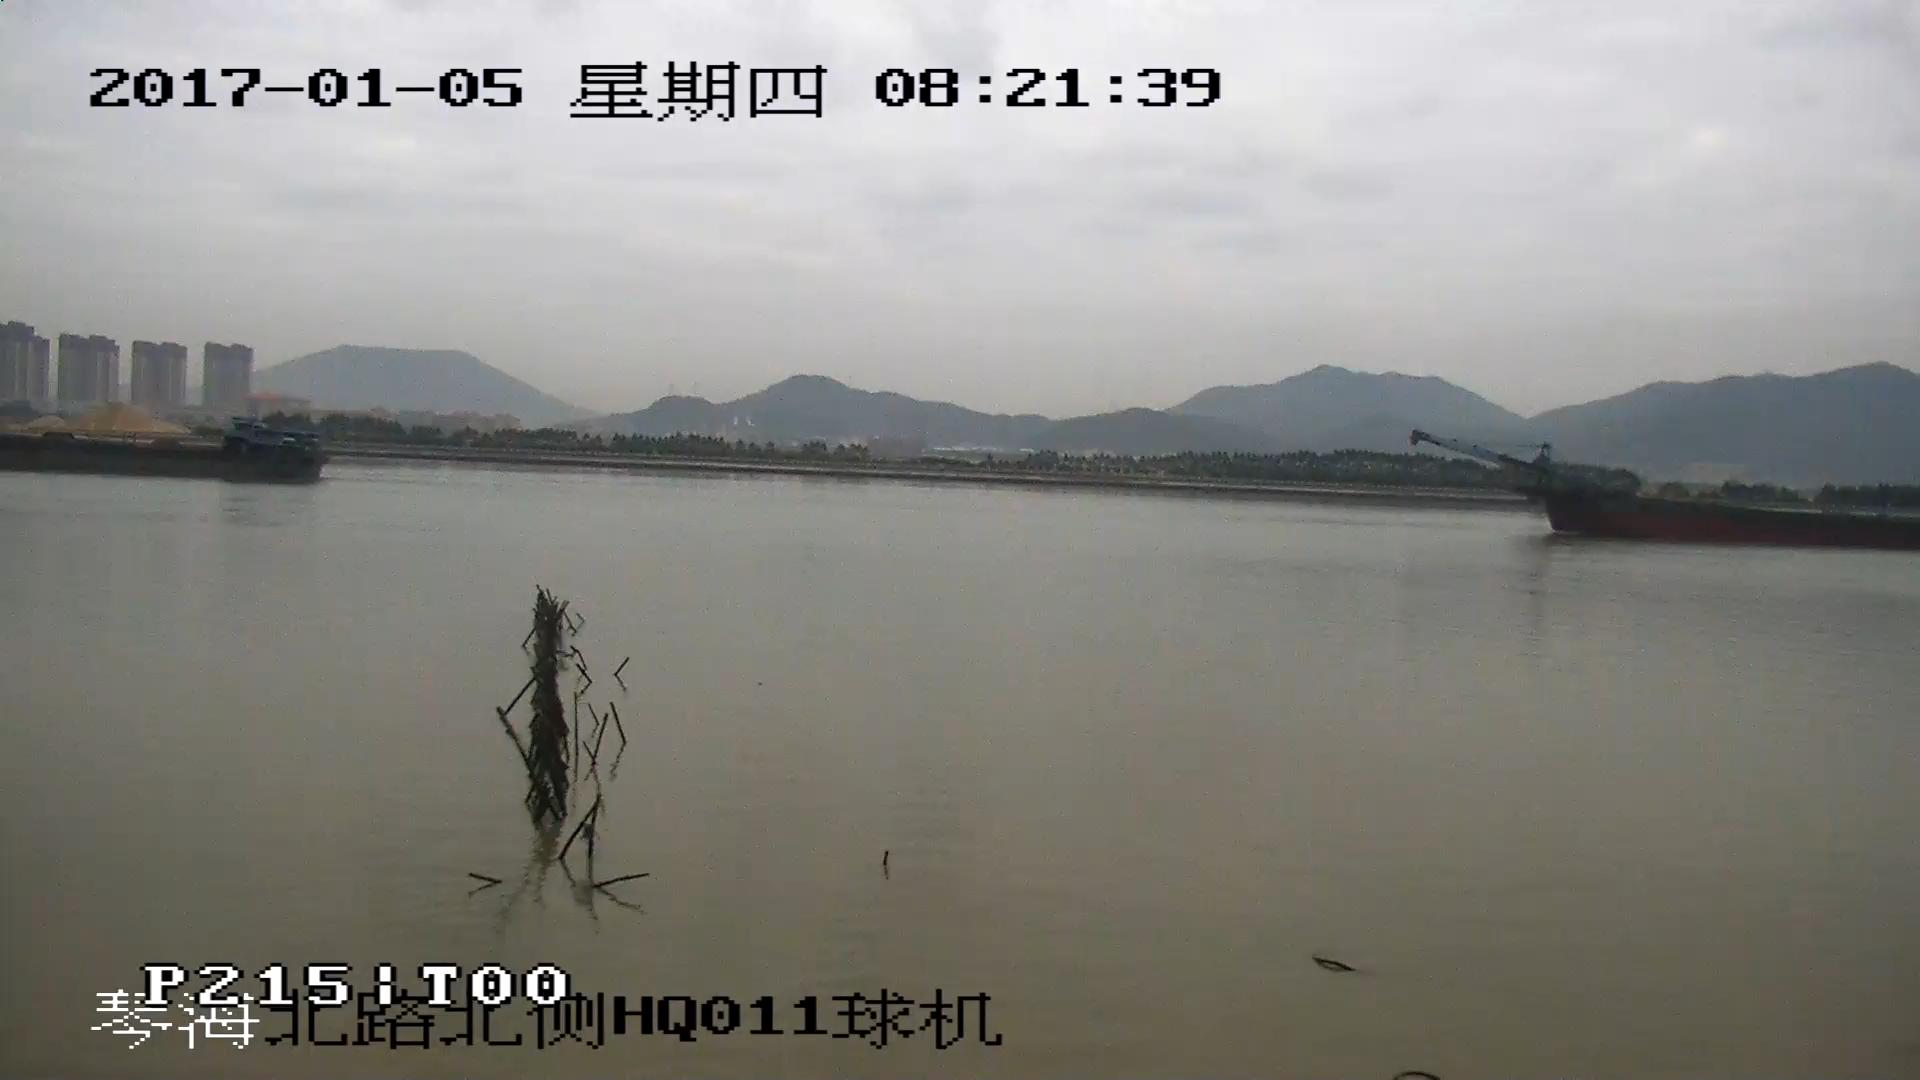bulk cargo carrier: (1409, 436, 1920, 551), (1, 422, 331, 482)
